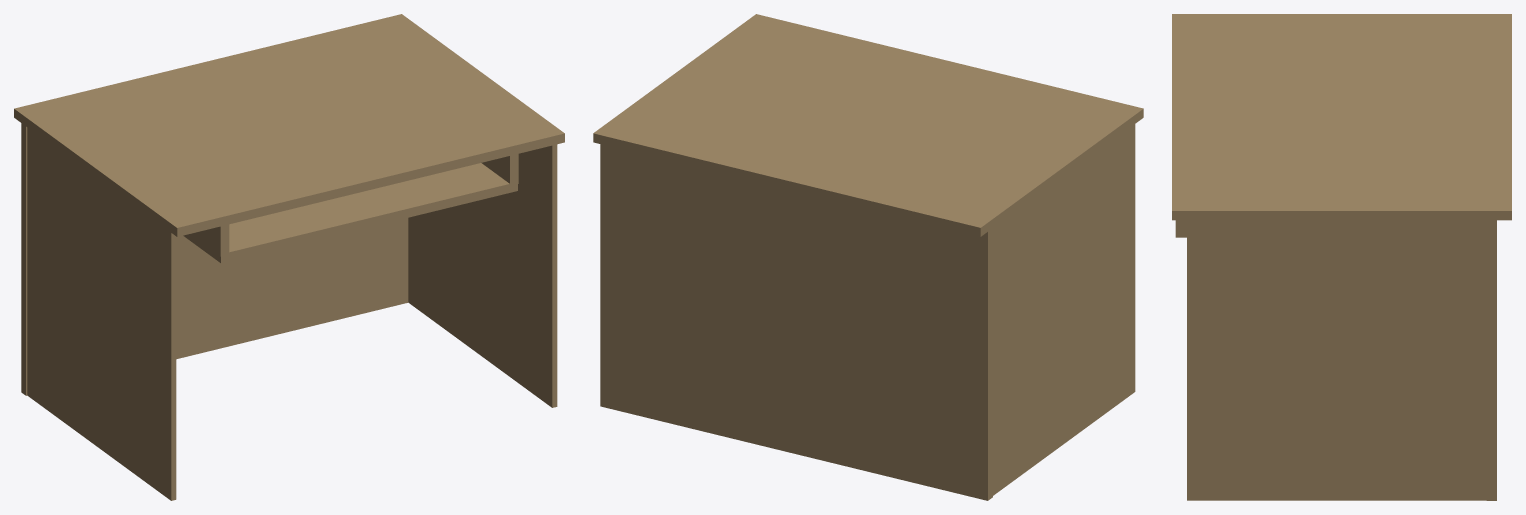
The model's file is stol_4.fbx.
3 views of the same model, side by side, from view 1: azimuth 30°, elevation 25°; view 2: azimuth 150°, elevation 25°; view 3: azimuth 270°, elevation 25° (orthographic). The views are drawn at different scales.
Parts seen in each view (by area): view 1: stol_4; view 2: stol_4; view 3: stol_4.
Part boxes in pixels (<box>): stol_4: <box>14,14,564,500</box>; stol_4: <box>593,14,1143,500</box>; stol_4: <box>1172,14,1511,500</box>.
Bounding box in the file's own units: 122 × 83.74 × 88.92.
